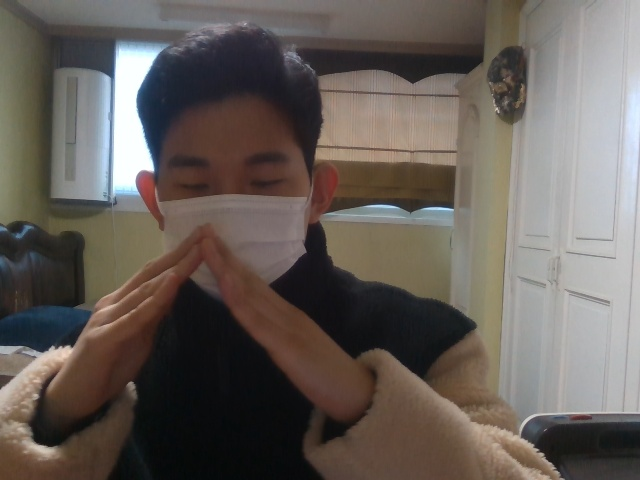HOME: (47, 222, 369, 415)
